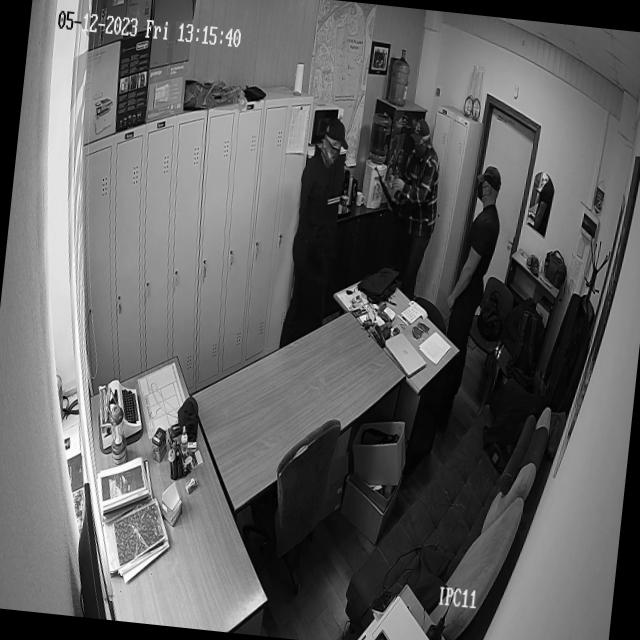gun: (370, 158, 407, 232)
person: (438, 166, 507, 444), (276, 121, 345, 356)
person with a gun: (362, 98, 447, 302)
